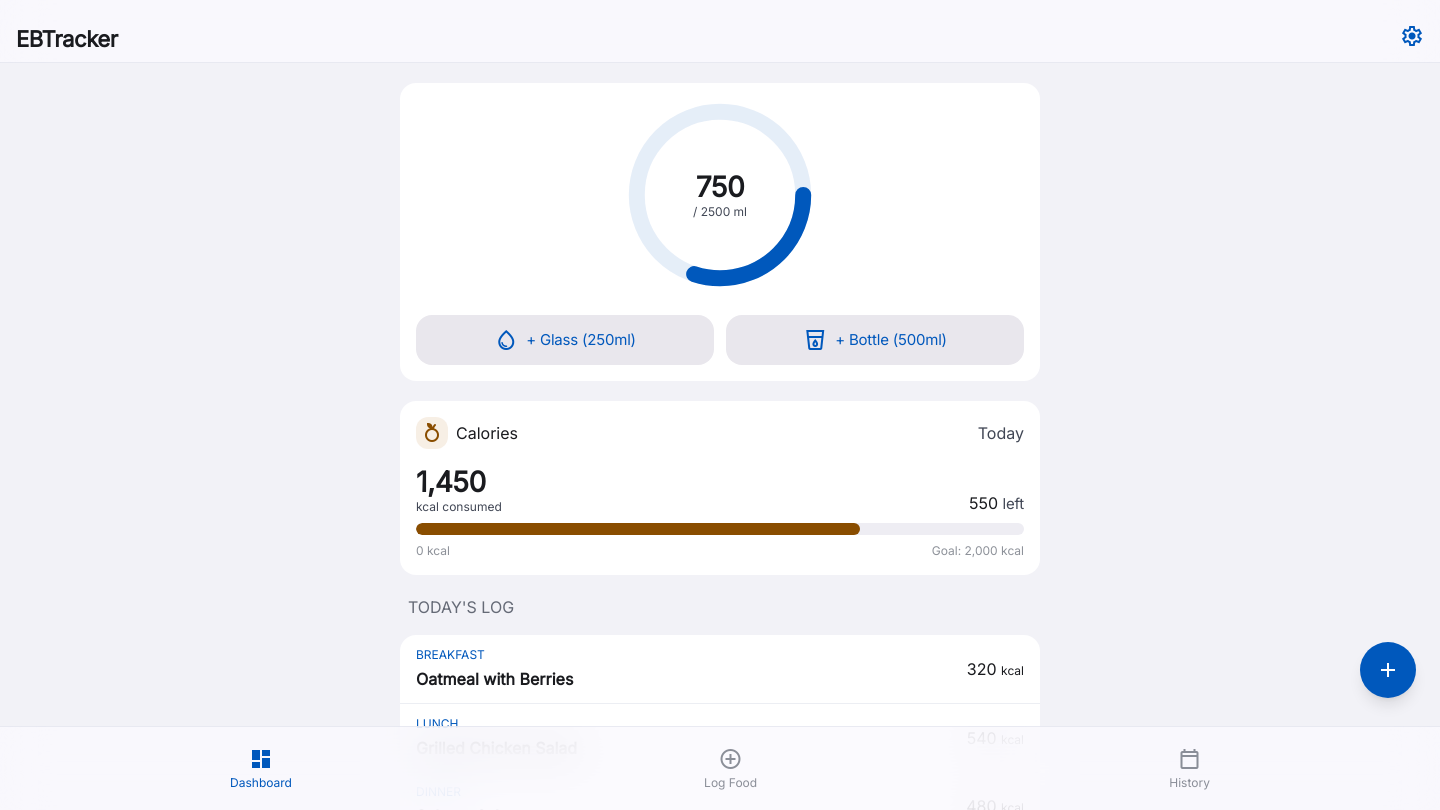
Test: Dashboard Component › saves water to store and database when "+ Glass (250ml)" is clicked
The width and height of the screenshot is (1440, 810).
Click the text "+ Glass (250ml)" at [581, 340], box x1=526 y1=330 x2=636 y2=350
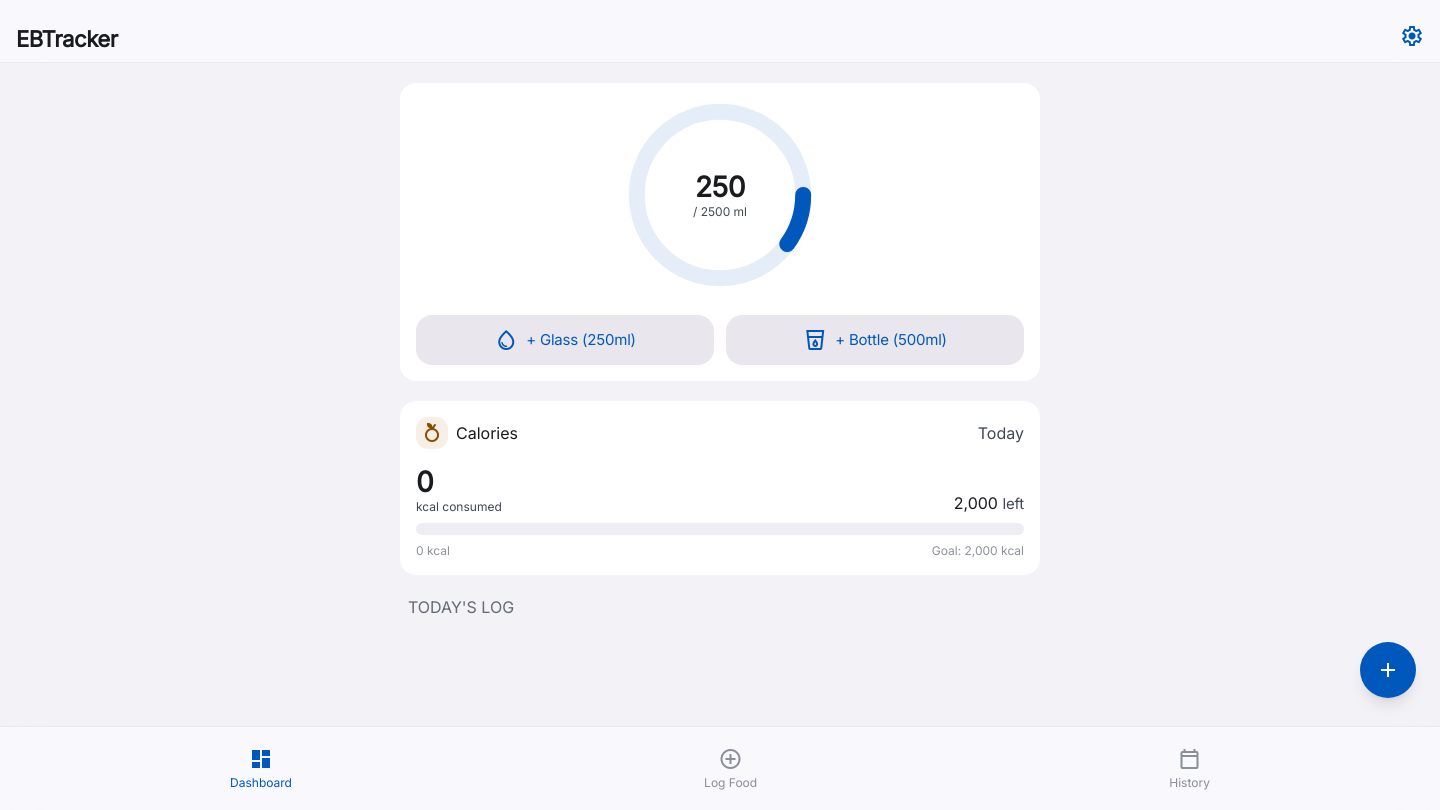
Check: the text "250" is shown, box x1=695 y1=170 x2=745 y2=204
